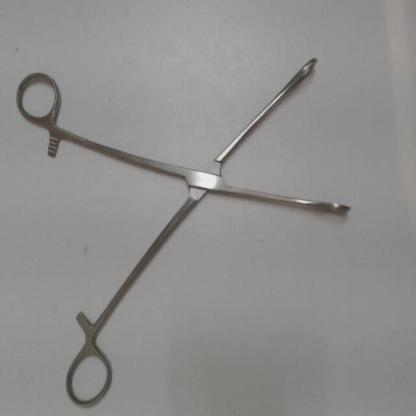Sponge Forceps: (12, 46, 357, 412)
